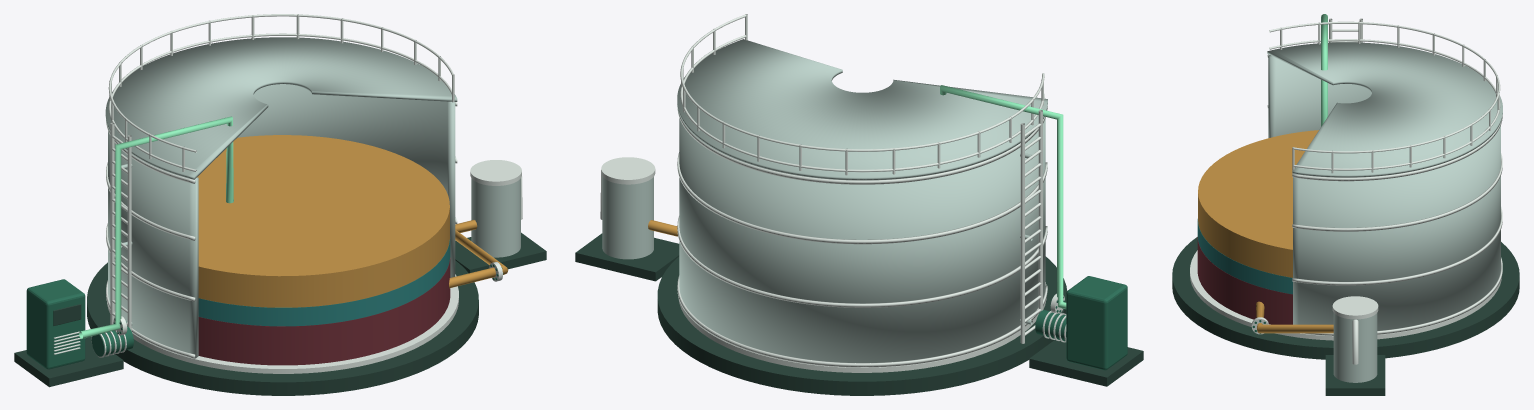
The model's file is tam-tank-process.glb.
3 views of the same model, side by side, from view 1: azimuth 30°, elevation 25°; view 2: azimuth 150°, elevation 25°; view 3: azimuth 270°, elevation 25° (orthographic). The views are drawn at different scales.
Visible parts, largest first — view 1: Static_TAM_Steel, HERO_oil, Static_TAM_Base, Static_TAM_Edge, HERO_sludge, Static_TAM_Green, HERO_water, Static_TAM_Treatment, Static_TAM_Oil; view 2: Static_TAM_Steel, Static_TAM_Edge, Static_TAM_Base, Static_TAM_Green, Static_TAM_Treatment; view 3: Static_TAM_Steel, HERO_oil, Static_TAM_Edge, Static_TAM_Base, HERO_sludge, HERO_water, Static_TAM_Oil, Static_TAM_Treatment.
Boxes of the visible parts, x1,y1,x2,y2 form: Static_TAM_Steel: (105, 37, 520, 358); HERO_oil: (197, 135, 449, 307); Static_TAM_Base: (14, 232, 546, 395); Static_TAM_Edge: (53, 14, 522, 373); HERO_sludge: (198, 258, 450, 365); Static_TAM_Green: (26, 264, 503, 369); HERO_water: (198, 239, 450, 326); Static_TAM_Treatment: (79, 116, 233, 338); Static_TAM_Oil: (449, 220, 508, 288); Static_TAM_Steel: (602, 39, 1047, 362); Static_TAM_Edge: (600, 14, 1066, 372); Static_TAM_Base: (575, 233, 1143, 395); Static_TAM_Green: (1035, 276, 1127, 370); Static_TAM_Treatment: (940, 85, 1066, 309); Static_TAM_Steel: (1267, 42, 1502, 382); HERO_oil: (1198, 130, 1318, 277); Static_TAM_Edge: (1190, 18, 1502, 364); Static_TAM_Base: (1172, 237, 1519, 395); HERO_sludge: (1197, 237, 1292, 324); HERO_water: (1197, 219, 1292, 294); Static_TAM_Oil: (1256, 301, 1333, 333); Static_TAM_Treatment: (1321, 14, 1327, 126).
Bounding box in the file's own units: 10.82 × 4.64 × 7.3.
